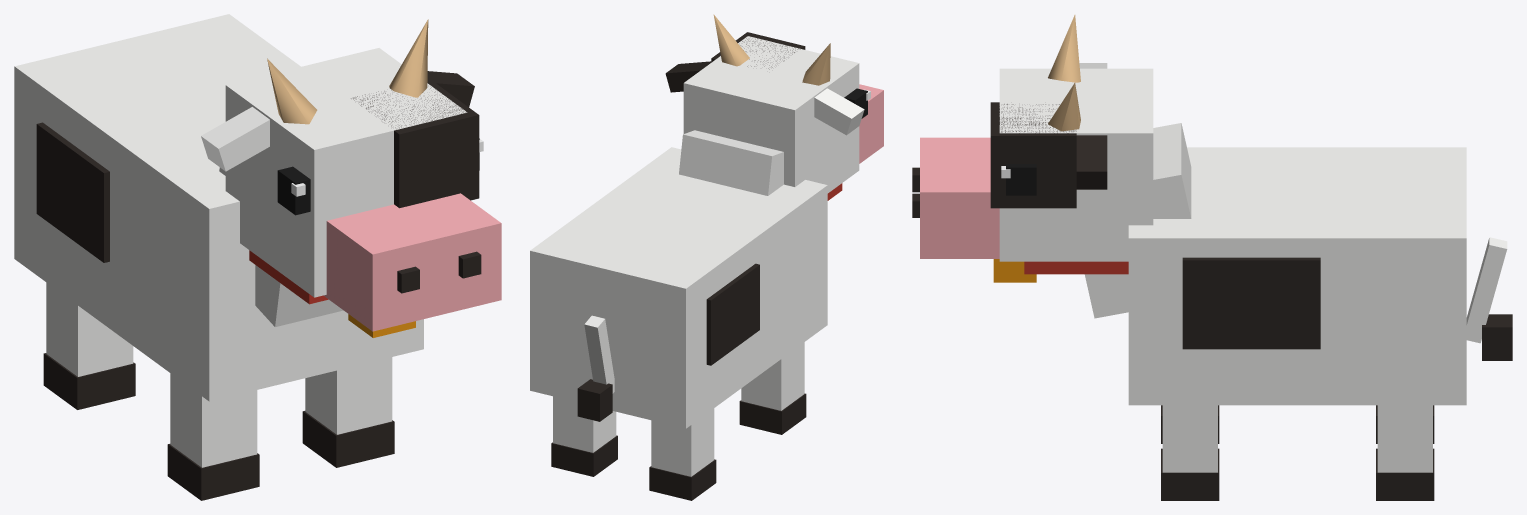
File: cow.glb
3 renders of one model, left to right at view 1: azimuth 30°, elevation 25°; view 2: azimuth 150°, elevation 25°; view 3: azimuth 270°, elevation 25°, orthographic. The views are drawn at different scales.
Parts seen in each view (by area): view 1: Cow_Body, Cow_Head, Cow_Snout, Cow_HeadPatch, Cow_Spot2, Cow_Leg_0, Cow_Leg_1, Cow_Leg_2, Cow_Hoof_0, Cow_Hoof_2, Cow_Hoof_1, Cow_Ear_0 (+8 smaller); view 2: Cow_Body, Cow_Head, Cow_Neck, Cow_Spot2, Cow_Leg_2, Cow_Tail_Pivot, Cow_Leg_0, Cow_Leg_3, Cow_Hoof_0, Cow_Hoof_2, Cow_Hoof_3, Cow_Ear_0 (+5 smaller); view 3: Cow_Body, Cow_Head, Cow_Spot1, Cow_Snout, Cow_HeadPatch, Cow_Neck, Cow_Leg_1, Cow_Leg_3, Cow_Tail_Pivot, Cow_Hoof_1, Cow_Hoof_3, Cow_Ear_1 (+5 smaller).
Part boxes in pixels (x1,y1,x2,y2): Cow_Body: [14, 14, 423, 401]; Cow_Head: [225, 48, 467, 297]; Cow_Snout: [323, 193, 501, 331]; Cow_HeadPatch: [351, 78, 479, 208]; Cow_Spot2: [36, 122, 109, 262]; Cow_Leg_0: [170, 373, 257, 467]; Cow_Leg_1: [305, 357, 392, 434]; Cow_Leg_2: [46, 282, 133, 376]; Cow_Hoof_0: [167, 444, 259, 500]; Cow_Hoof_2: [43, 353, 135, 409]; Cow_Hoof_1: [302, 411, 394, 467]; Cow_Ear_0: [201, 107, 269, 171]; Cow_Body: [530, 147, 827, 428]; Cow_Head: [683, 36, 859, 193]; Cow_Neck: [679, 130, 783, 195]; Cow_Spot2: [706, 263, 759, 365]; Cow_Leg_2: [651, 408, 714, 476]; Cow_Tail_Pivot: [577, 315, 614, 421]; Cow_Leg_0: [741, 342, 804, 410]; Cow_Leg_3: [553, 396, 616, 452]; Cow_Hoof_0: [739, 393, 806, 434]; Cow_Hoof_2: [649, 459, 716, 500]; Cow_Hoof_3: [551, 435, 617, 476]; Cow_Ear_0: [814, 88, 864, 135]; Cow_Body: [1128, 147, 1466, 405]; Cow_Head: [999, 68, 1153, 261]; Cow_Spot1: [1182, 257, 1320, 349]; Cow_Snout: [920, 137, 999, 258]; Cow_HeadPatch: [990, 102, 1076, 208]; Cow_Neck: [1084, 123, 1191, 318]; Cow_Leg_1: [1162, 405, 1217, 472]; Cow_Leg_3: [1377, 405, 1432, 472]; Cow_Tail_Pivot: [1466, 237, 1512, 360]; Cow_Hoof_1: [1161, 448, 1219, 500]; Cow_Hoof_3: [1376, 448, 1434, 500]; Cow_Ear_1: [1076, 135, 1107, 189].
Size of the model in its own units: 0.5849 by 1.04 by 1.37.
